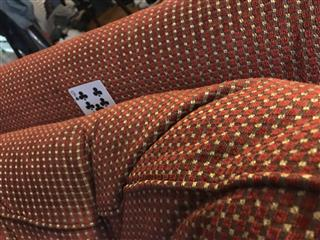NineOfClubs: (67, 79, 115, 114)
